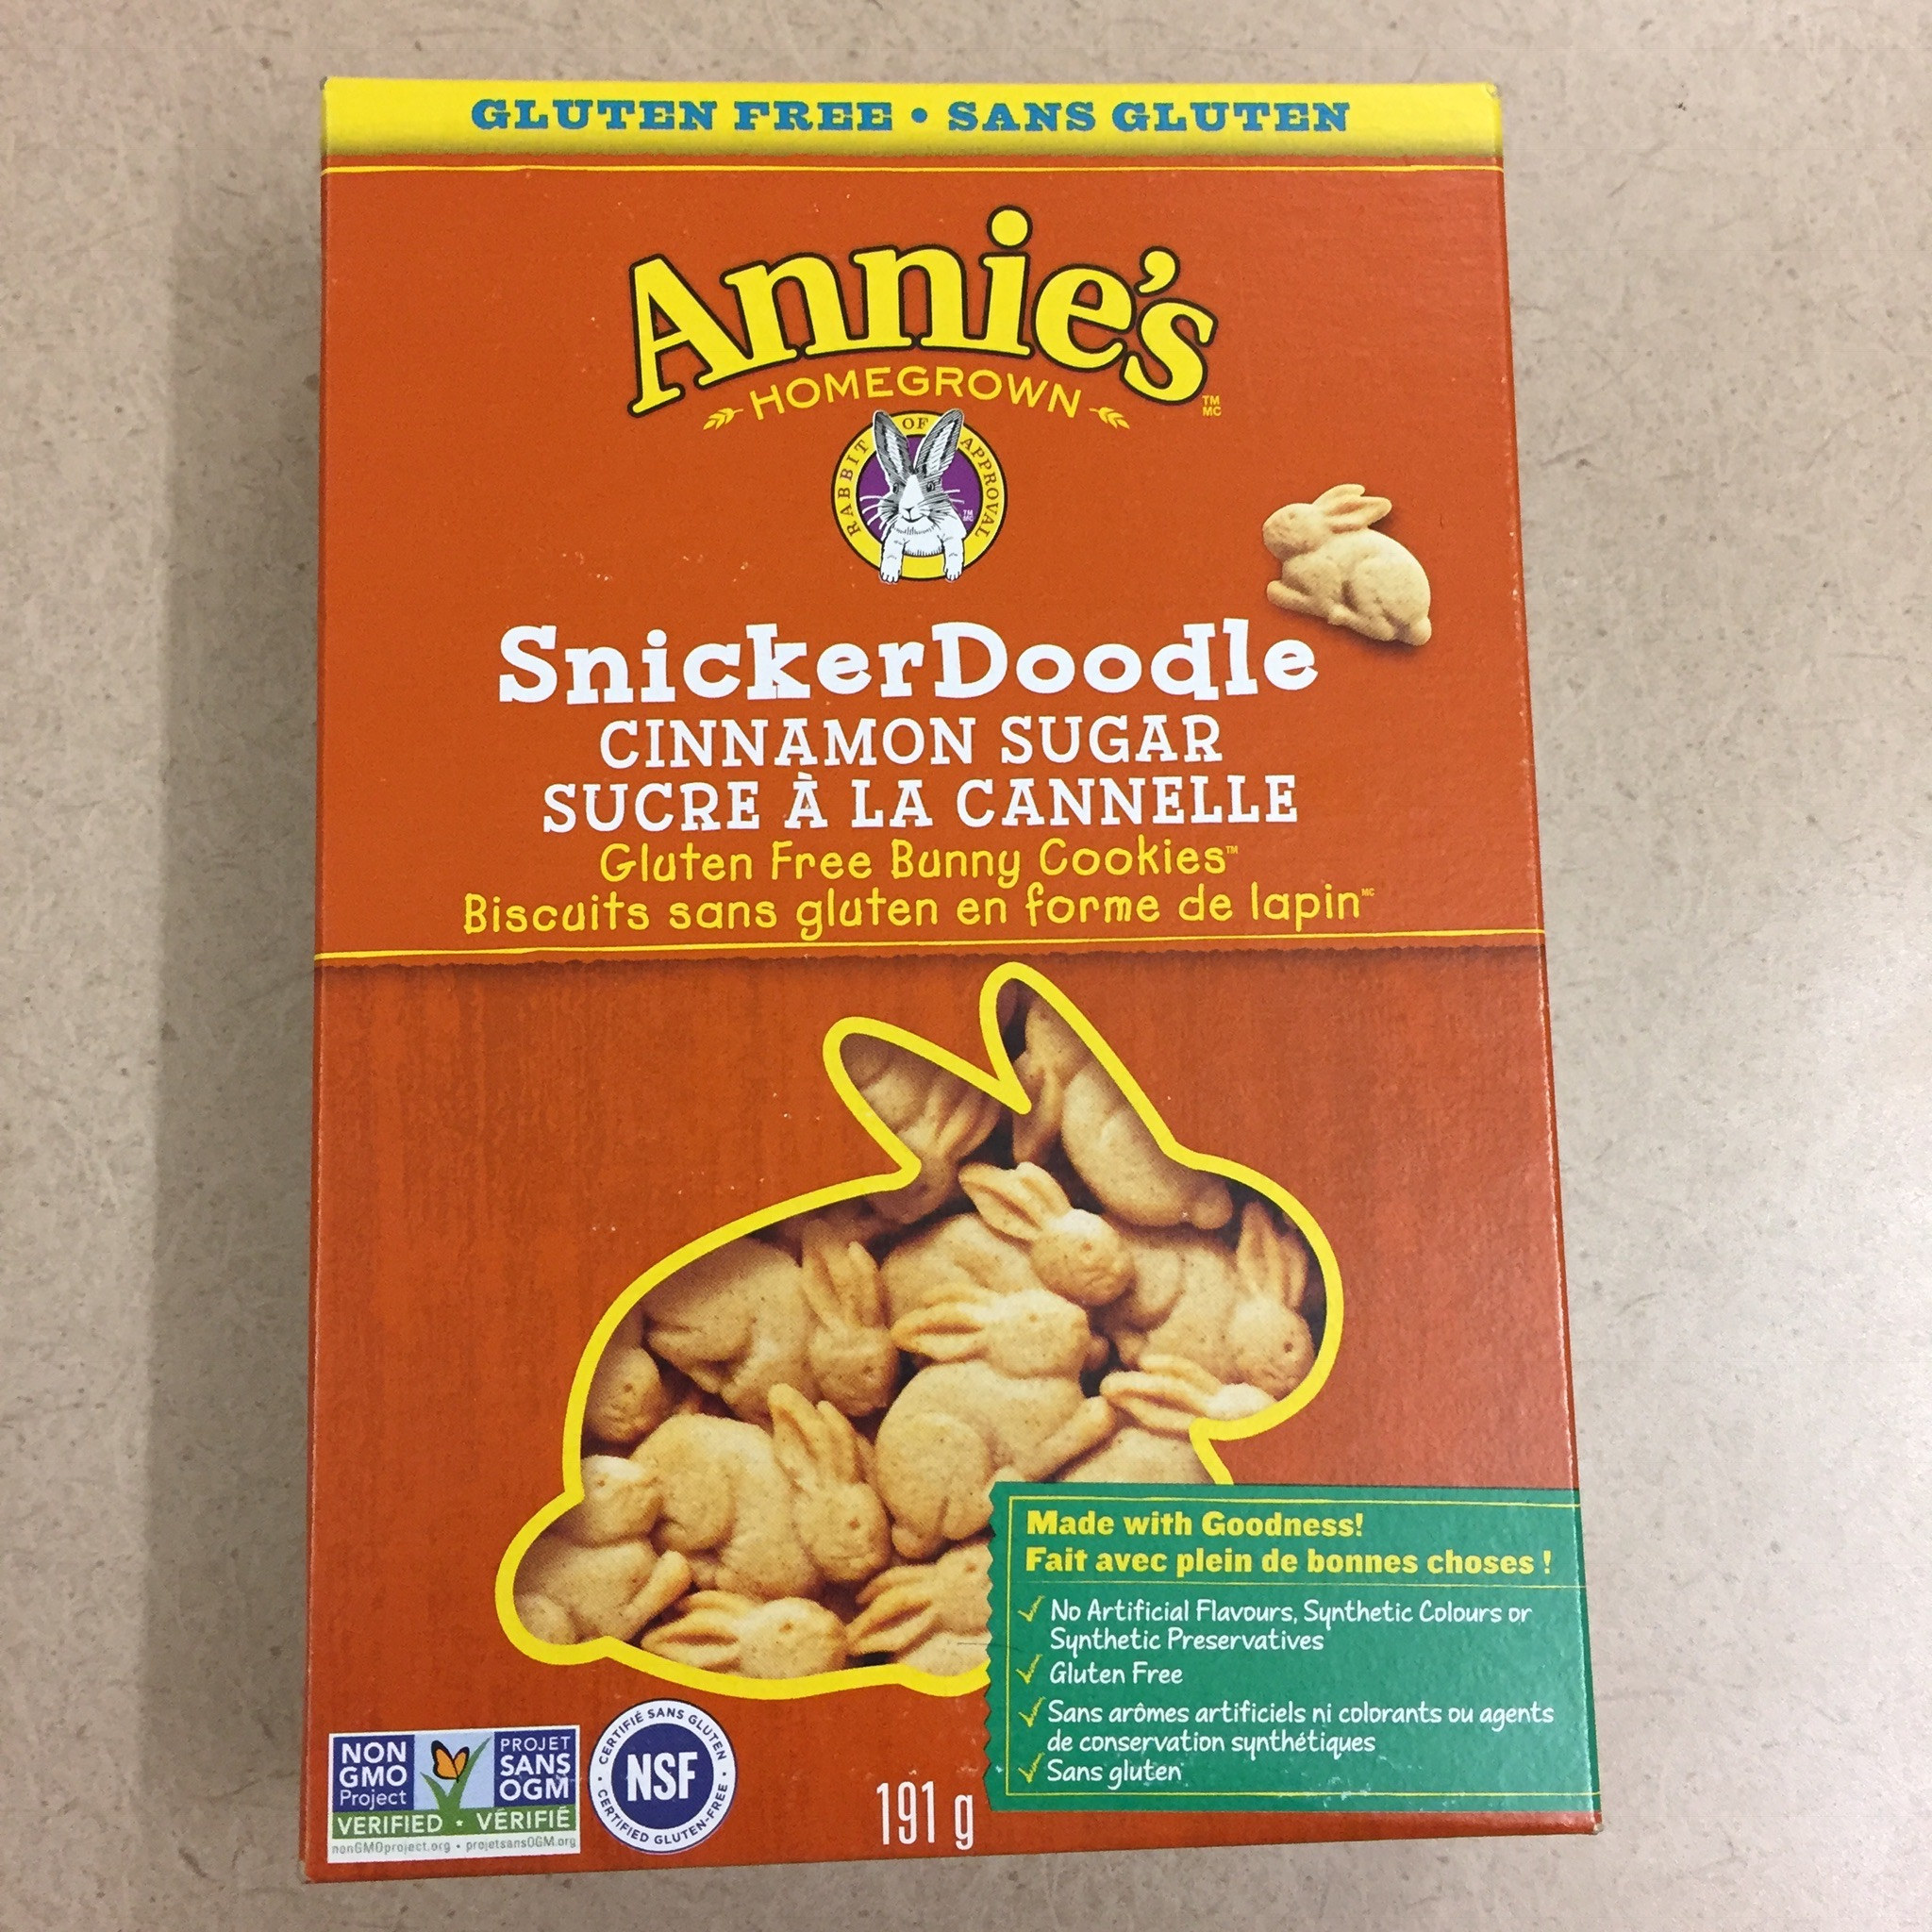annies_snickerdoodle_cinnamon_sugar: (292, 73, 1608, 1891)
